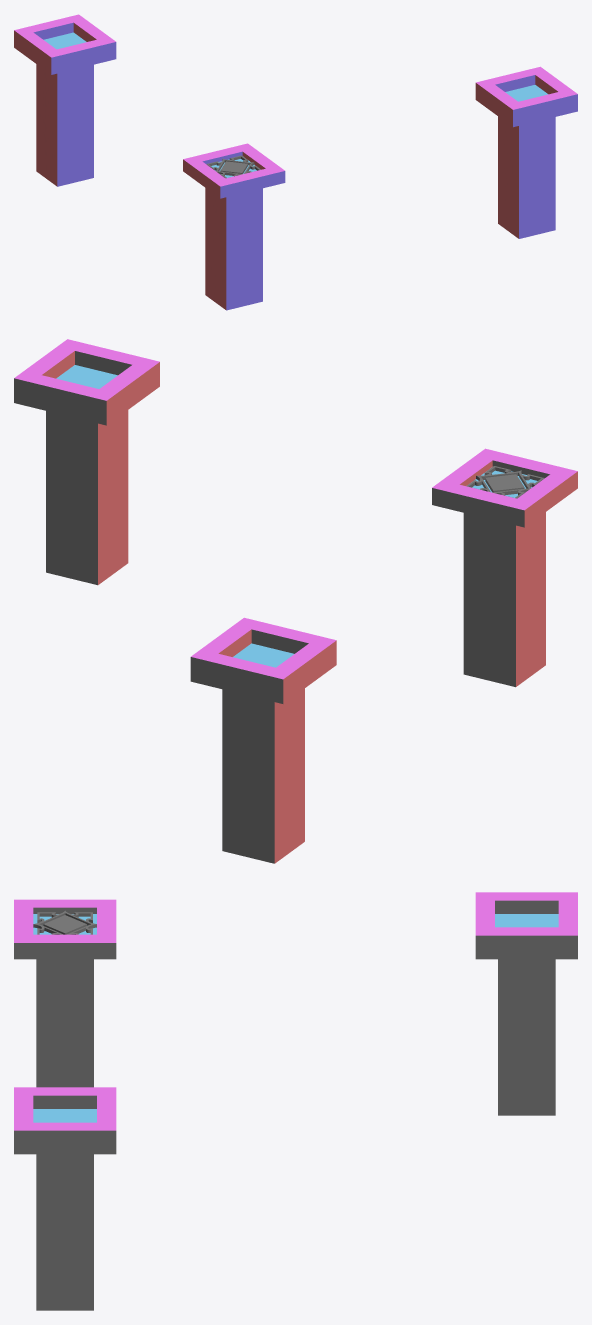
The picture shows the model from 3 angles, top to bottom: view 1: azimuth 30°, elevation 25°; view 2: azimuth 150°, elevation 25°; view 3: azimuth 270°, elevation 25°; orthographic projection. The views are drawn at different scales.
Parts seen in each view (by area): view 1: Box002, Box003, Box001, Line003; view 2: Box003, Box002, Box001, Line003; view 3: Box002, Box003, Box001, Line003.
Boxes of the visible parts, x1=… form: Box002: x1=475, y1=66, x2=577, y2=238; Box003: x1=14, y1=14, x2=116, y2=186; Box001: x1=183, y1=143, x2=285, y2=310; Line003: x1=206, y1=155, x2=260, y2=178; Box003: x1=190, y1=617, x2=336, y2=863; Box002: x1=14, y1=339, x2=159, y2=585; Box001: x1=432, y1=448, x2=577, y2=687; Line003: x1=466, y1=466, x2=544, y2=498; Box002: x1=14, y1=1087, x2=116, y2=1310; Box003: x1=475, y1=892, x2=577, y2=1115; Box001: x1=14, y1=899, x2=116, y2=1087; Line003: x1=33, y1=910, x2=96, y2=934.
Size of the model in its own units: 391 by 145 by 391.
